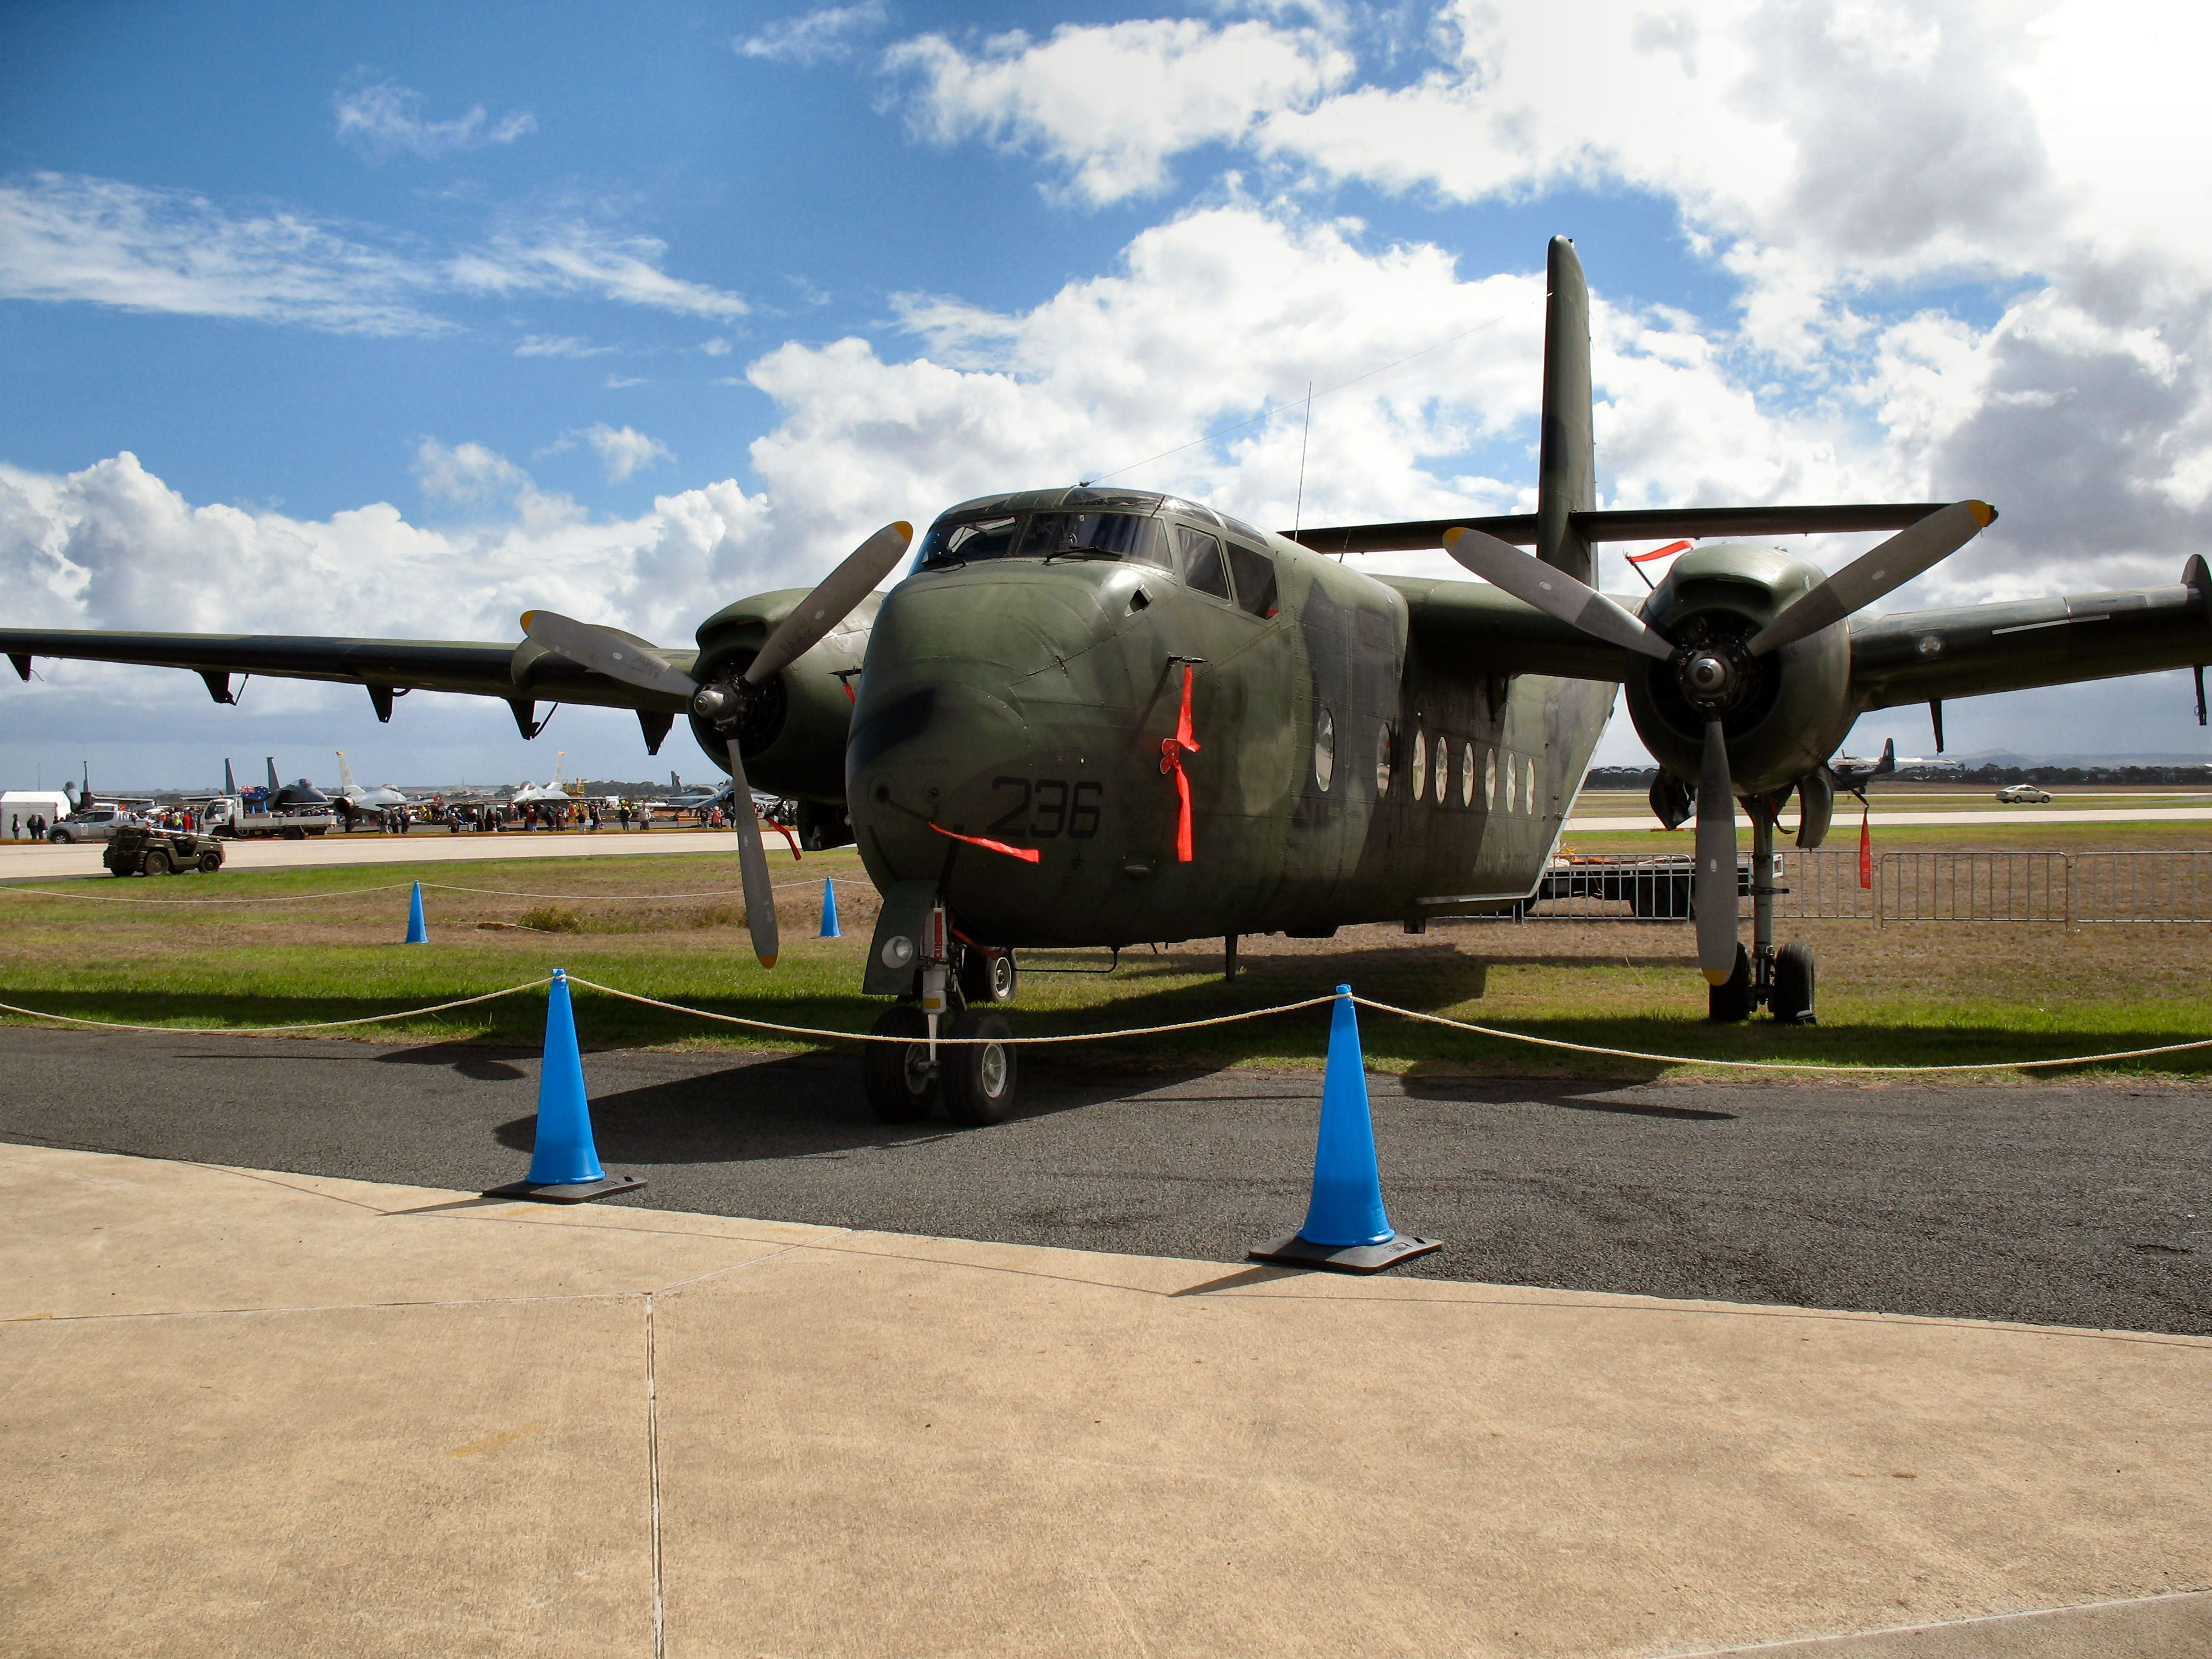Propeller: (1437, 471, 1966, 974), (519, 514, 885, 955)
